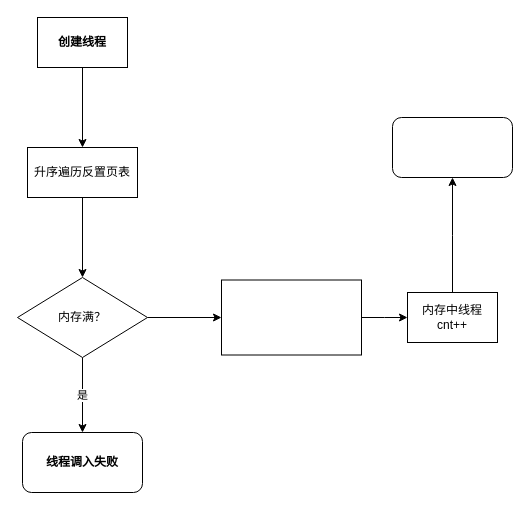
Some shapes in this 530 by 510 pixel diagram are drawn without their labels. The shapes that lost their labels are listed below. From the top down, each one's centre as x and y in pixels, then its label:
the point at 452,147: 线程调入成功
the point at 291,317: 修改页表项 修改内存线性表 为used
